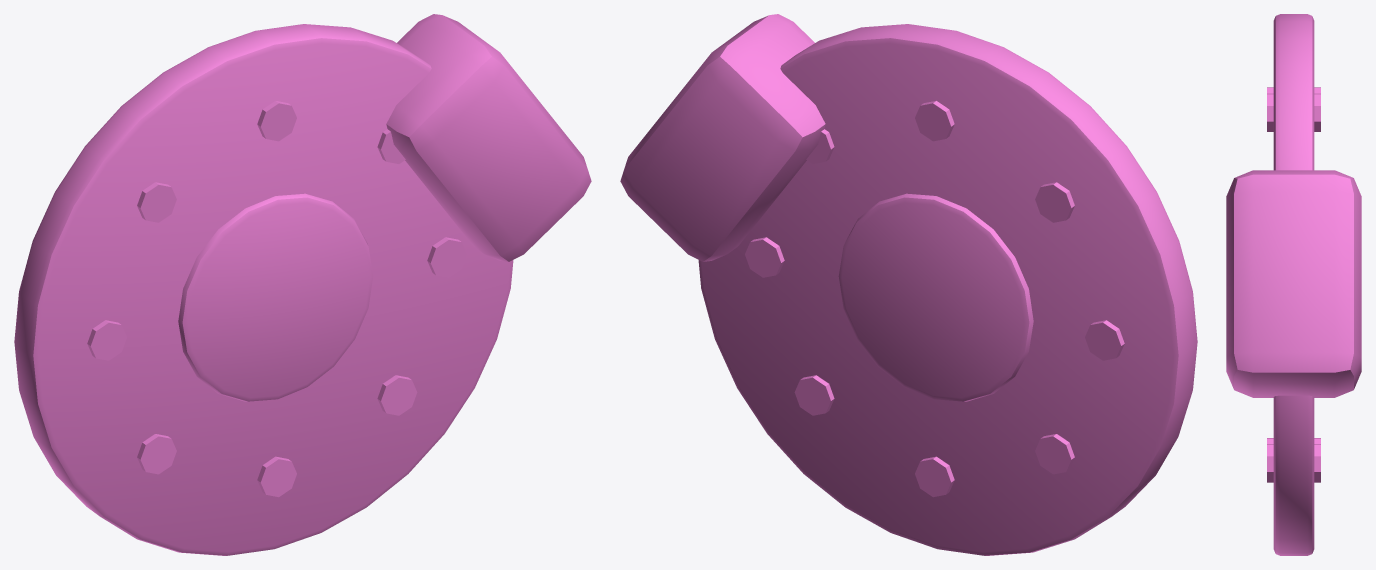
Rendered from Item_Brake.fbx.
The picture shows the model from 3 angles, left to right: view 1: azimuth 30°, elevation 25°; view 2: azimuth 150°, elevation 25°; view 3: azimuth 270°, elevation 25°; orthographic projection. The views are drawn at different scales.
Parts seen in each view (by area): view 1: Brake; view 2: Brake; view 3: Brake.
Part boxes in pixels (x1,y1,x2,y2): Brake: (14,14,591,555); Brake: (620,14,1197,555); Brake: (1226,14,1361,555).
Bounding box in the file's own units: 4.49 × 4 × 1.
Materials: 1 (1 with a texture image).
